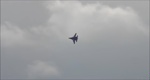maybay_muctieu: (68, 31, 81, 46)
